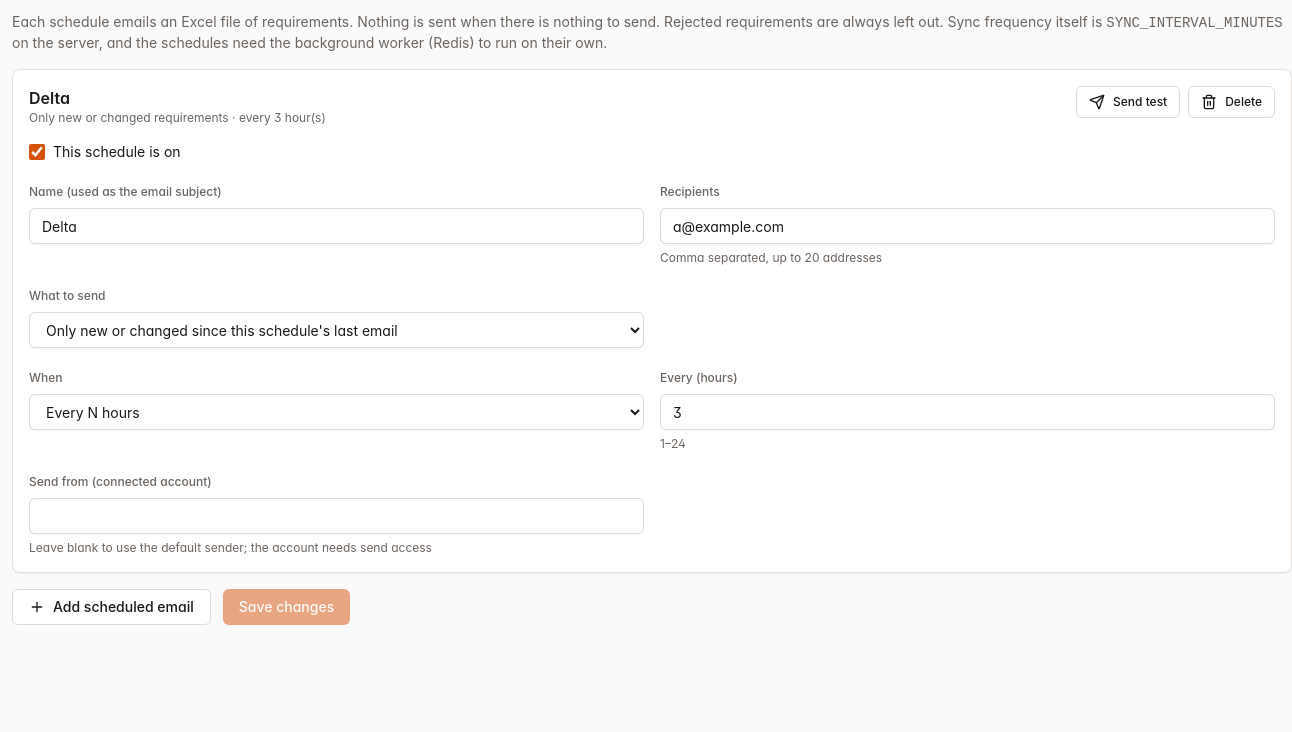
Test: test button › sends a test for a saved schedule and is disabled while there are unsaved changes
The image size is (1292, 732).
Click the button with aria-label "Send test for Delta".
click(1128, 102)  # box [1076, 86, 1180, 118]
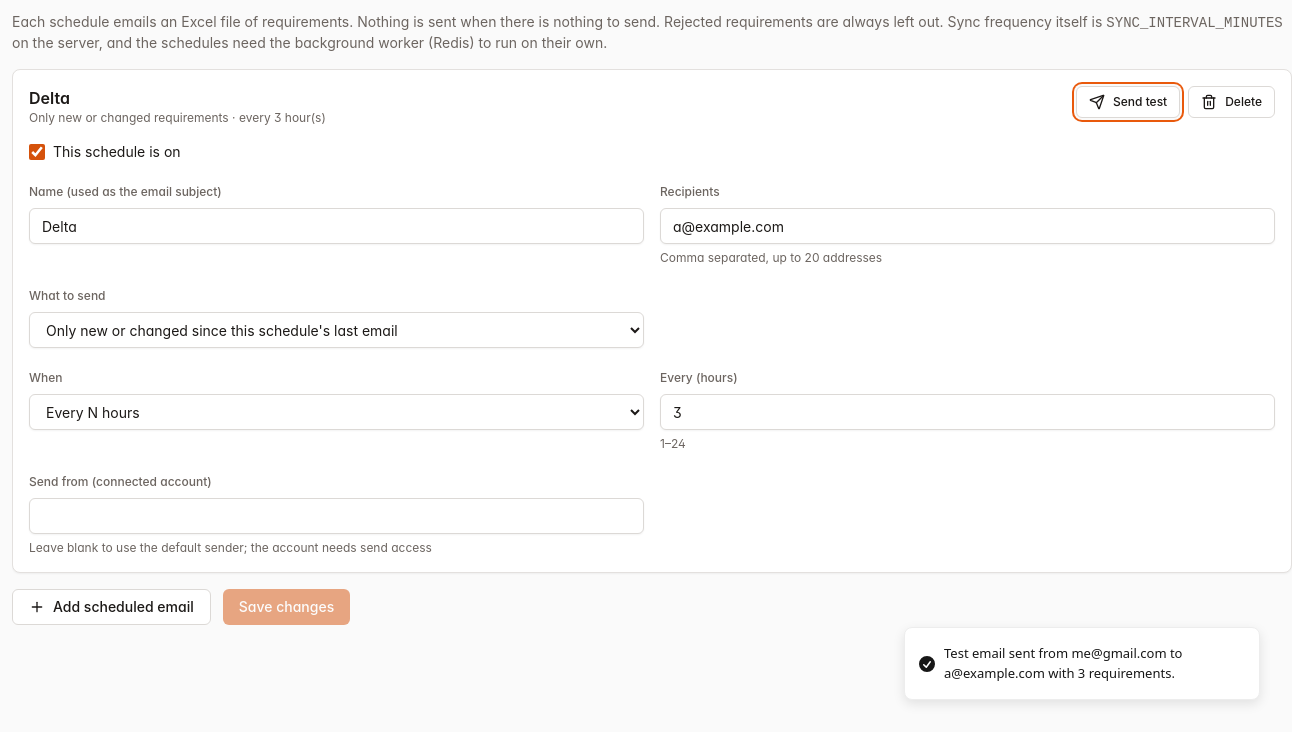
Check: the text "Test email sent from me@gmail.com to a@example.com with 3 requirements" is shown, box [944, 644, 1182, 682]
Type "x" into the field labelled "Name (used as the email subject)".
click(336, 226); type("x")  # box [29, 208, 644, 244]
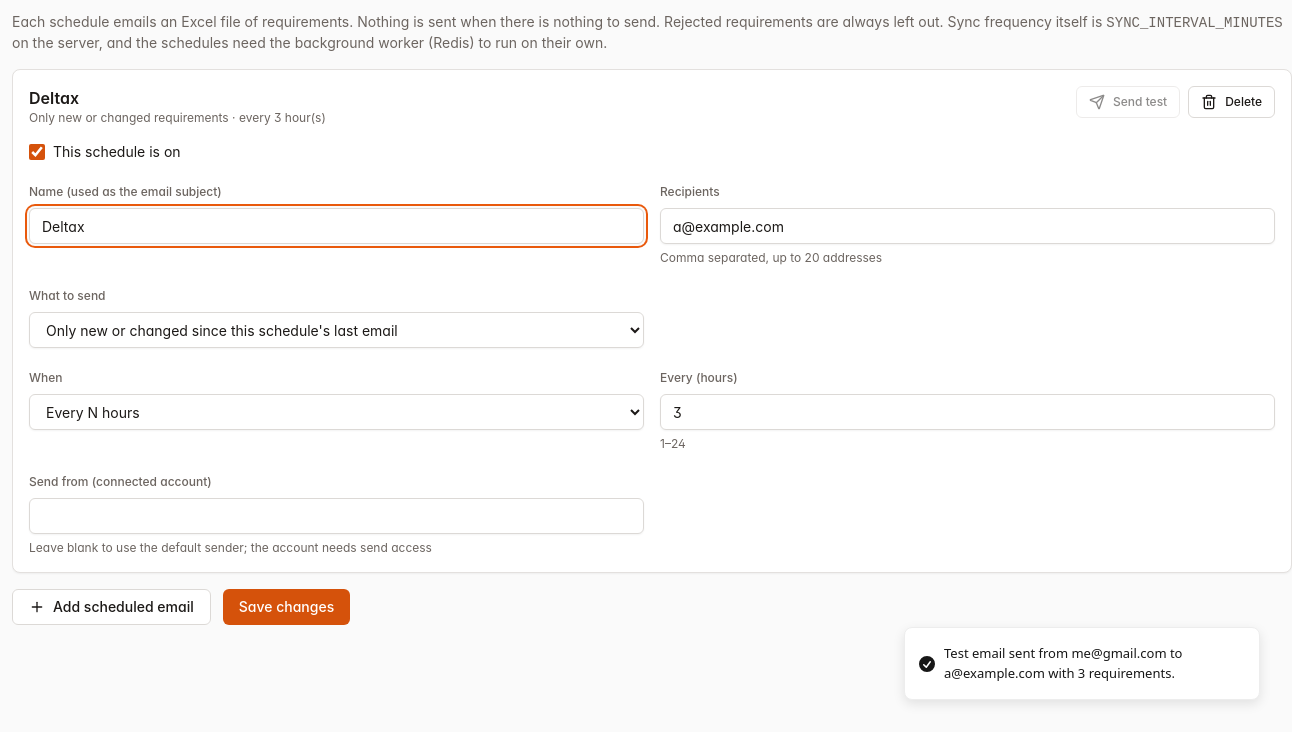
Check: the button with aria-label "Send test for Deltax" is disabled, box [1076, 86, 1180, 118]
